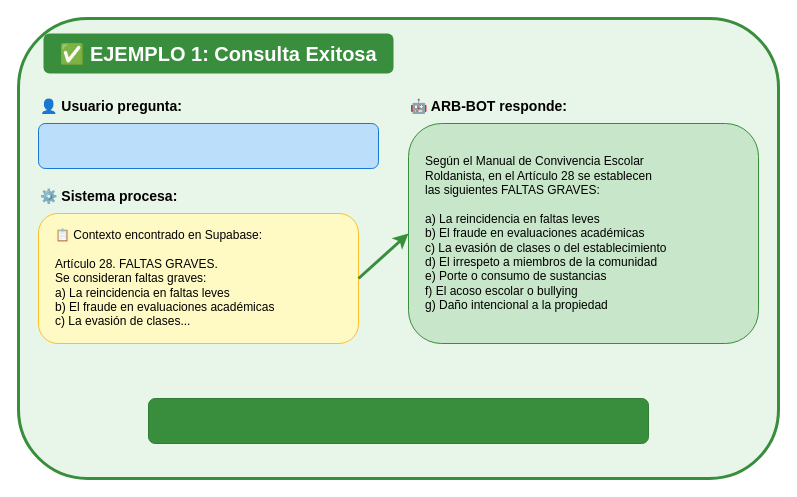
Image size: 797x497. Some labels were removed from this diagram. Here are the shapes that lost their labels. From the top down, the centre of each, then its label:
point 208,145: "¿Cuáles son las faltas graves?"
point 398,421: ✅ Respuesta basada en contexto REAL del Manual de Convivencia
